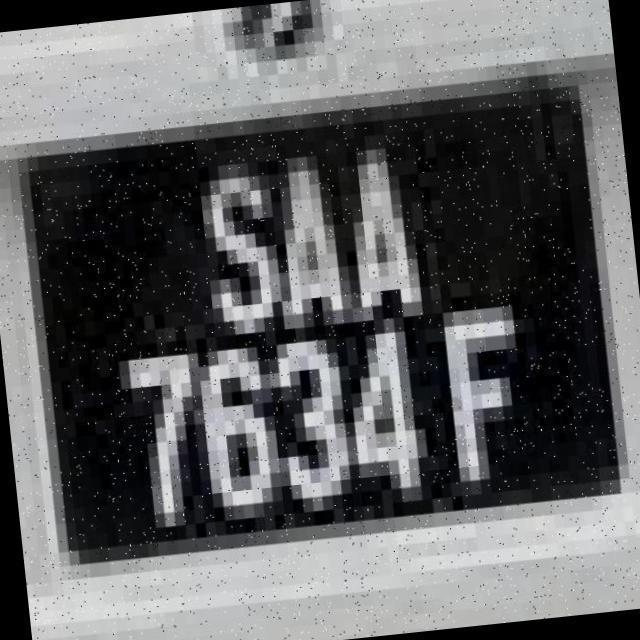License Plate: (11, 76, 630, 568)
